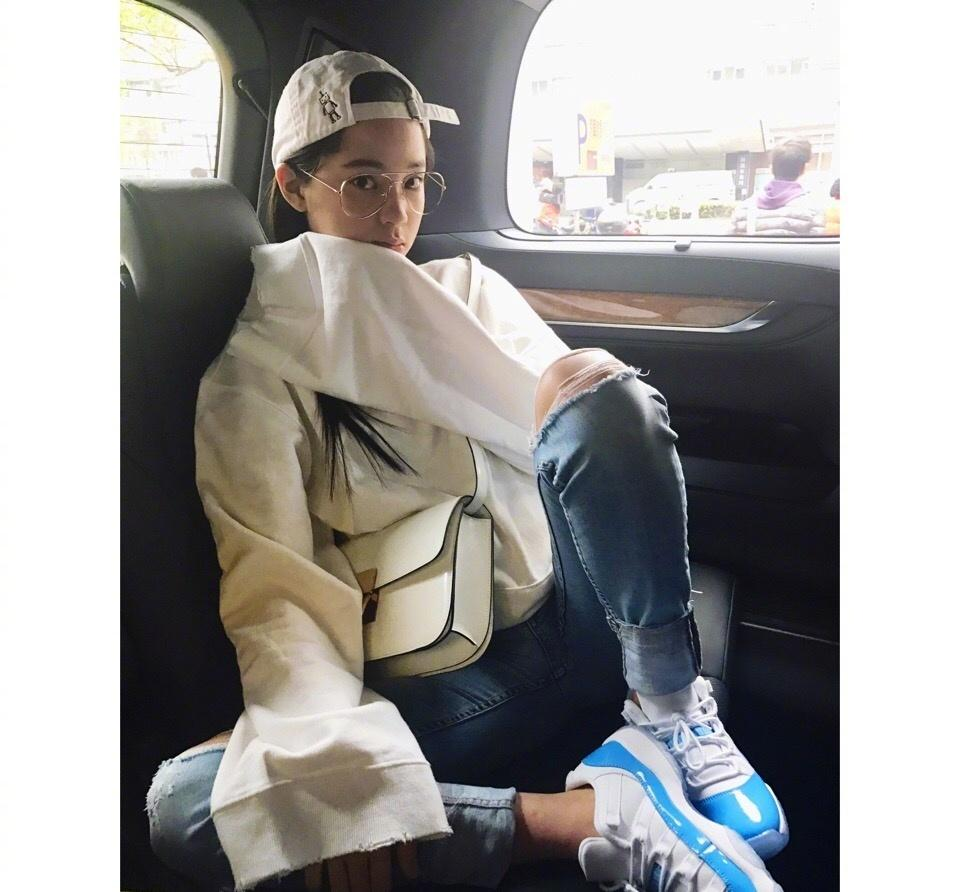face: (308, 114, 426, 272)
